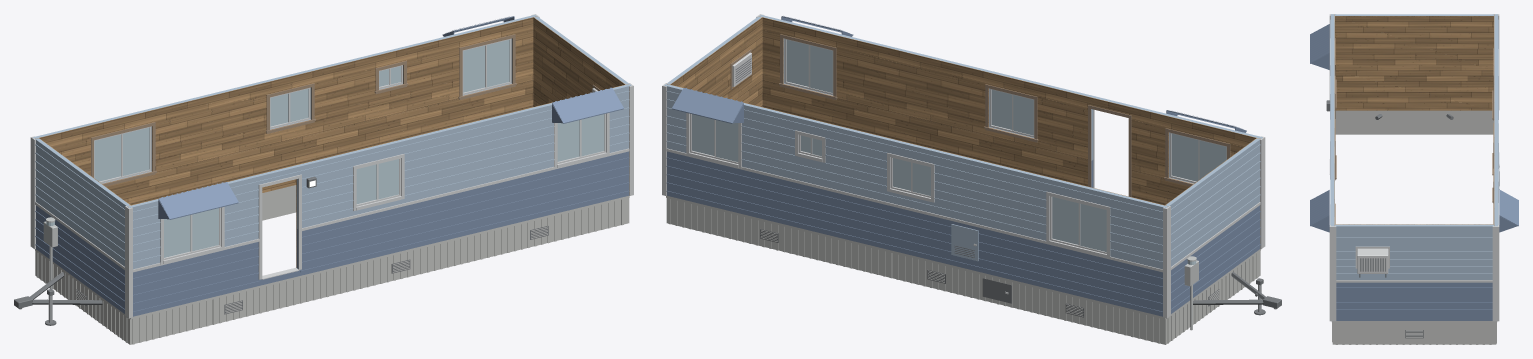
Rendered from trailer_b.glb.
3 renders of one model, left to right at view 1: azimuth 30°, elevation 25°; view 2: azimuth 150°, elevation 25°; view 3: azimuth 270°, elevation 25°, orthographic. The views are drawn at different scales.
Parts seen in each view (by area): view 1: trailer_b_panel, trailer_b_tr_n, trailer_b_tr_b, trailer_b_skirt_g, trailer_b_glass, trailer_b_alu, trailer_b_trim, trailer_b_steel_d, trailer_b_galv; view 2: trailer_b_panel, trailer_b_tr_b, trailer_b_tr_n, trailer_b_skirt_g, trailer_b_glass, trailer_b_alu, trailer_b_trim, trailer_b_steel_d, trailer_b_galv; view 3: trailer_b_panel, trailer_b_tr_b, trailer_b_tr_n, trailer_b_skirt_g, trailer_b_alu, trailer_b_steel_d, trailer_b_trim.
Boxes of the visible parts, x1,y1,x2,y2 form: trailer_b_panel: (35,16,629,267); trailer_b_tr_n: (35,16,629,316); trailer_b_tr_b: (33,15,631,269); trailer_b_skirt_g: (35,185,629,344); trailer_b_glass: (46,39,604,257); trailer_b_alu: (30,14,633,318); trailer_b_trim: (91,34,600,267); trailer_b_steel_d: (14,176,548,325); trailer_b_galv: (43,217,57,289); trailer_b_panel: (666,16,1260,206); trailer_b_tr_b: (664,15,1262,269); trailer_b_tr_n: (666,16,1260,316); trailer_b_skirt_g: (666,196,1260,344); trailer_b_glass: (692,40,1226,264); trailer_b_alu: (662,14,1265,318); trailer_b_trim: (730,34,1230,196); trailer_b_steel_d: (735,58,1281,317); trailer_b_galv: (1184,256,1198,330); trailer_b_panel: (1334,14,1494,225); trailer_b_tr_b: (1330,14,1499,279); trailer_b_tr_n: (1310,24,1518,320); trailer_b_skirt_g: (1331,110,1497,344); trailer_b_alu: (1329,14,1499,321); trailer_b_steel_d: (1326,100,1499,338); trailer_b_trim: (1335,38,1493,224).
Size of the model in its own units: 13.98 by 3.23 by 5.
12 materials, 1 textured.
